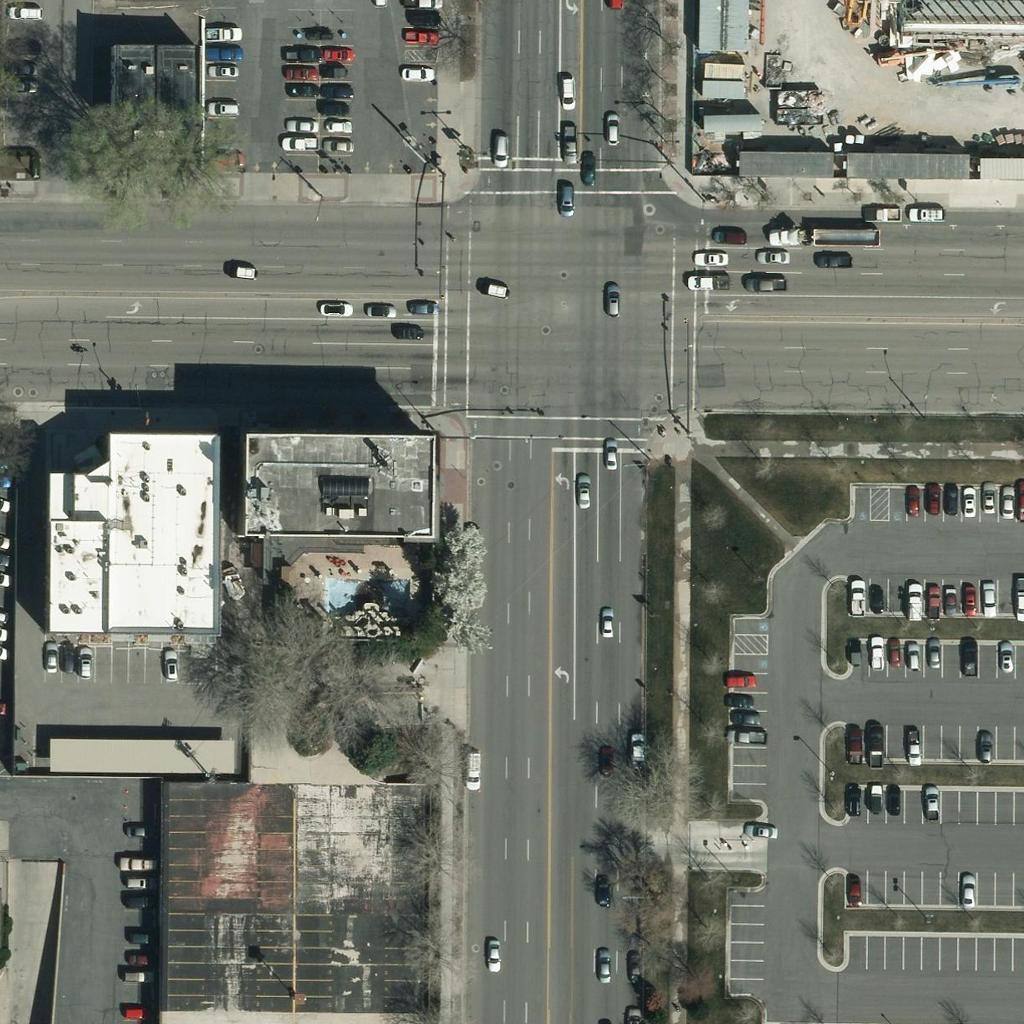car: (405, 1, 439, 35), (209, 15, 243, 49), (405, 18, 439, 52), (210, 35, 244, 69), (318, 37, 352, 71), (287, 38, 321, 72), (6, 52, 40, 86), (207, 53, 241, 87), (283, 54, 317, 88), (314, 54, 348, 88), (397, 56, 431, 90), (3, 68, 37, 102), (285, 71, 319, 105), (318, 74, 352, 108), (549, 74, 583, 108), (316, 90, 350, 124), (205, 91, 239, 125), (284, 108, 318, 142), (321, 108, 355, 142), (594, 111, 628, 145), (281, 126, 315, 160), (319, 126, 353, 160), (552, 128, 586, 162), (483, 132, 517, 166), (208, 142, 242, 176), (572, 155, 606, 189), (549, 182, 583, 216), (863, 196, 897, 230), (906, 197, 940, 231), (714, 219, 748, 253), (754, 239, 788, 273), (695, 240, 729, 274), (813, 244, 847, 278), (225, 253, 259, 287), (692, 264, 726, 298), (746, 268, 780, 302), (475, 273, 509, 307), (596, 285, 630, 319), (405, 289, 439, 323), (319, 290, 353, 324), (361, 293, 395, 327), (392, 316, 426, 350), (594, 437, 628, 471), (566, 474, 600, 508), (972, 480, 1006, 514), (933, 482, 967, 516), (915, 483, 949, 517), (895, 484, 929, 518), (953, 485, 987, 519), (839, 576, 873, 610), (857, 578, 891, 612), (897, 582, 931, 616), (916, 582, 950, 616), (951, 582, 985, 616), (972, 582, 1006, 616), (933, 583, 967, 617), (589, 605, 623, 639), (858, 635, 892, 669), (951, 635, 985, 669), (877, 637, 911, 671), (916, 637, 950, 671), (838, 638, 872, 672), (33, 641, 67, 675), (896, 641, 930, 675), (989, 641, 1023, 675), (50, 642, 84, 676), (68, 646, 102, 680), (154, 648, 188, 682), (722, 663, 756, 697), (723, 683, 757, 717), (729, 699, 763, 733), (726, 719, 760, 753), (837, 725, 871, 759), (858, 725, 892, 759), (622, 732, 656, 766), (897, 732, 931, 766), (968, 733, 1002, 767), (589, 743, 623, 777), (456, 754, 490, 788), (836, 779, 870, 813), (858, 781, 892, 815), (876, 781, 910, 815), (915, 785, 949, 819), (123, 812, 157, 846), (743, 813, 777, 847), (121, 845, 155, 879), (124, 865, 158, 899), (837, 872, 871, 906), (586, 875, 620, 909), (950, 875, 984, 909), (123, 883, 157, 917), (127, 920, 161, 954), (477, 936, 511, 970), (126, 941, 160, 975), (616, 945, 650, 979), (587, 950, 621, 984), (124, 958, 158, 992), (991, 487, 1024, 521), (7, 0, 41, 29), (121, 997, 155, 1024), (617, 1003, 651, 1024), (407, 0, 441, 18)
